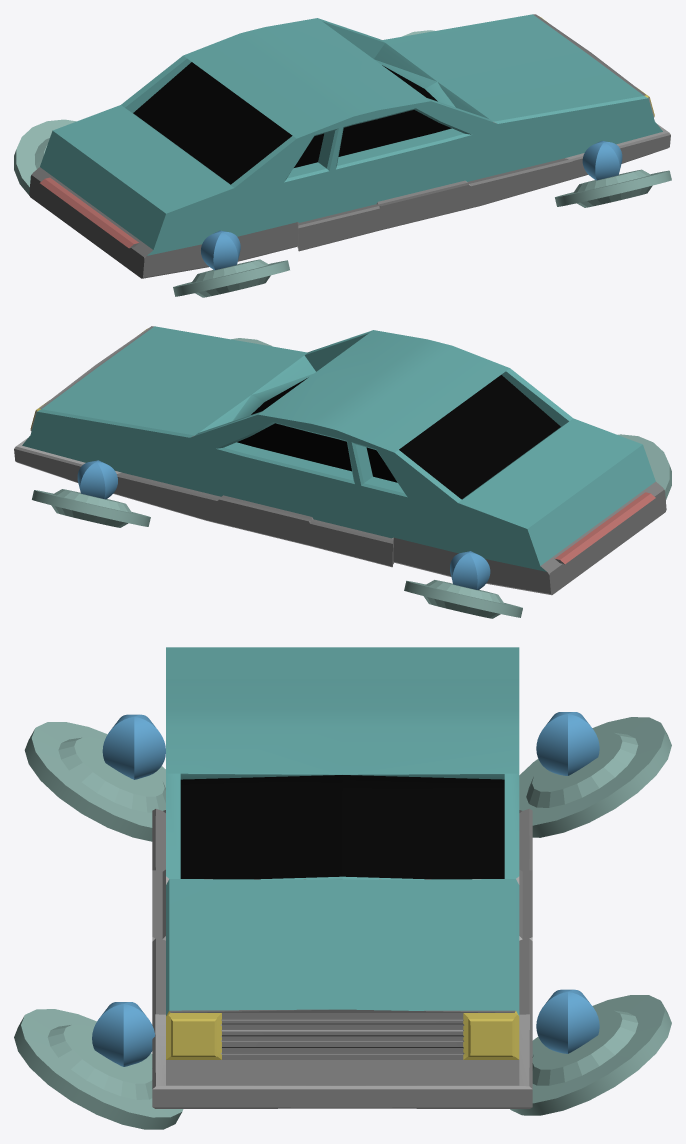
The model's file is Futuristic car.fbx.
3 renders of one model, top to bottom at view 1: azimuth 30°, elevation 25°; view 2: azimuth 150°, elevation 25°; view 3: azimuth 270°, elevation 25°, orthographic. The views are drawn at different scales.
Parts seen in each view (by area): view 1: polySurface3790; view 2: polySurface3790; view 3: polySurface3790.
Boxes of the visible parts, x1,y1,x2,y2 form: polySurface3790: [14, 14, 671, 297]; polySurface3790: [14, 326, 671, 618]; polySurface3790: [14, 647, 671, 1129].
Bounding box in the file's own units: 93.46 × 24.43 × 65.15.
